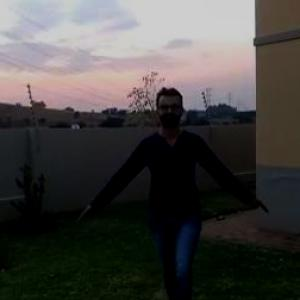land: (113, 101, 237, 299)
